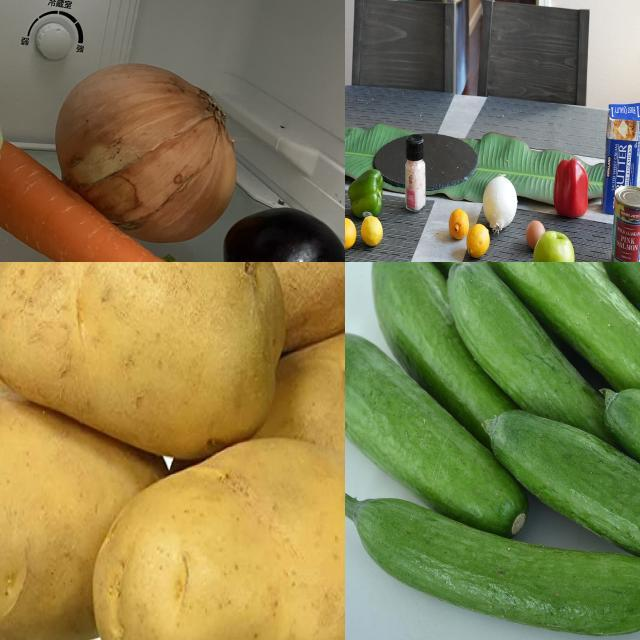bell_pepper: (549, 157, 590, 218), (349, 169, 388, 218)
carrot: (1, 138, 234, 263)
cucumber: (346, 495, 640, 639), (346, 328, 528, 536), (482, 409, 640, 628), (372, 263, 517, 441), (483, 263, 640, 417)
egg: (524, 219, 548, 254)
eggplant: (223, 207, 346, 263)
onion: (54, 61, 242, 251), (483, 174, 520, 237)
potato: (1, 263, 285, 454), (95, 441, 346, 640), (1, 384, 168, 640), (254, 326, 346, 523), (123, 263, 346, 341)
